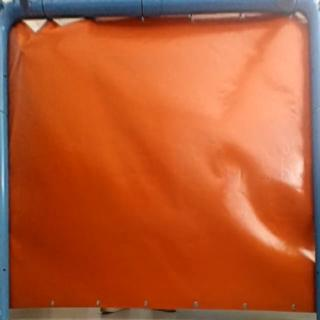Hit-hRxx: (17, 43, 31, 58)
